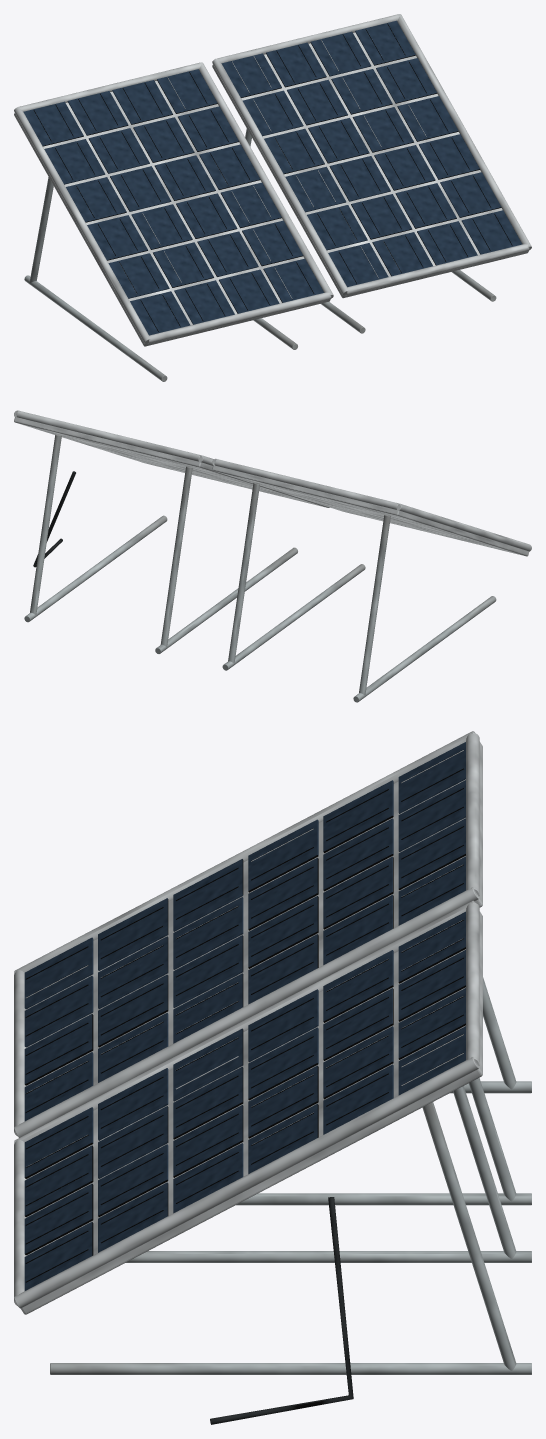
The model's file is GR_SolarArray_02.glb.
3 views of the same model, one above another, from view 1: azimuth 30°, elevation 25°; view 2: azimuth 150°, elevation 25°; view 3: azimuth 270°, elevation 25° (orthographic). The views are drawn at different scales.
Visible parts, largest first — view 1: Static; view 2: Static; view 3: Static.
Part boxes in pixels (x1,y1,x2,y2): Static: (14, 14, 531, 381); Static: (14, 410, 531, 702); Static: (14, 731, 531, 1424).
Size of the model in its own units: 2.1 by 0.934 by 1.29.
Materials: 1 (1 with a texture image).
